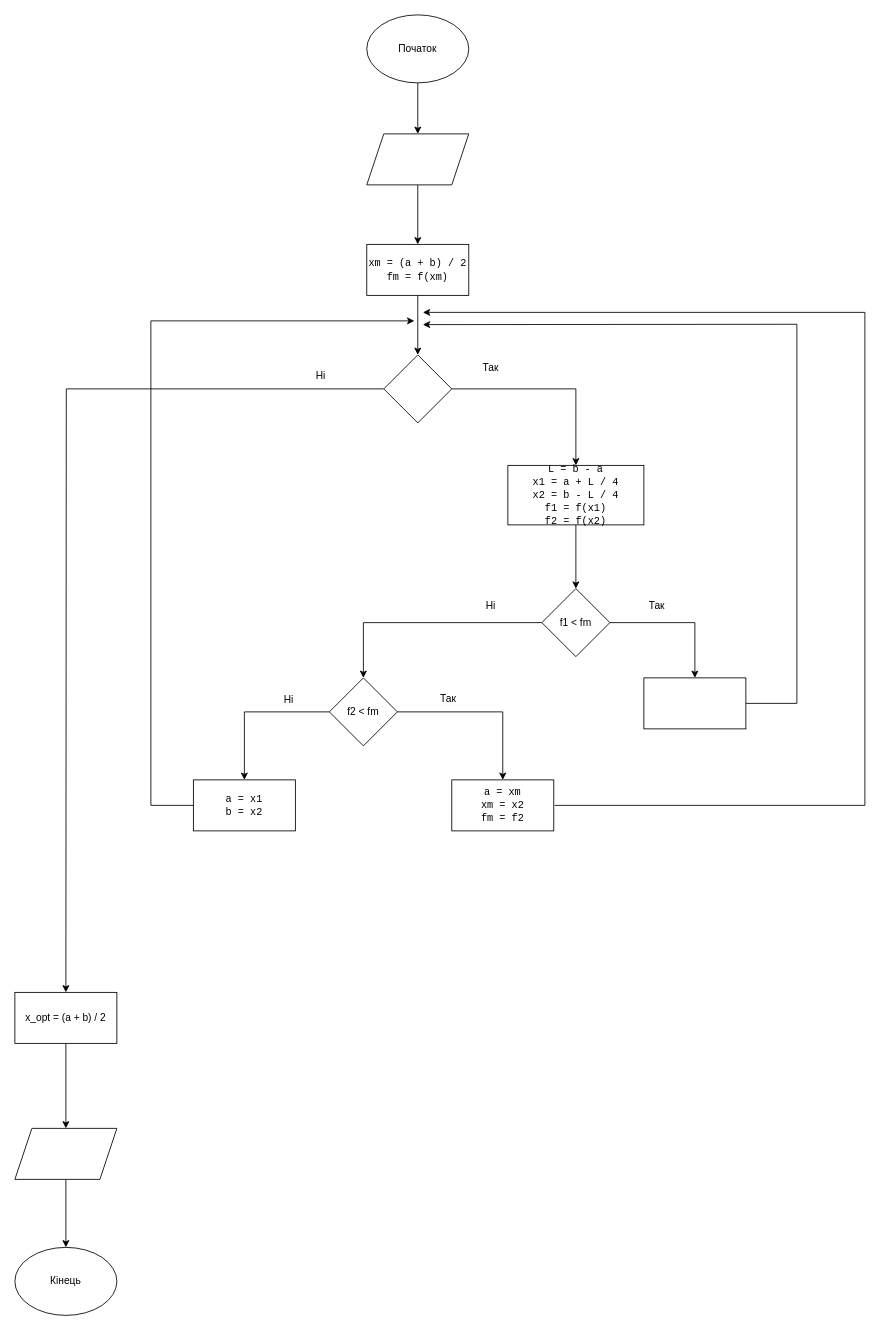
Image size: 887x1330. Some labels were removed from this diagram. Here are the shapes that lost their labels. From the top down, the centre of each, then its label:
(x=417, y=159): Введення: a, b, σ
(x=417, y=388): b - a > σ
(x=694, y=703): b = xm xm = x1 fm = f1
(x=65, y=1153): Виведення: x_opt
